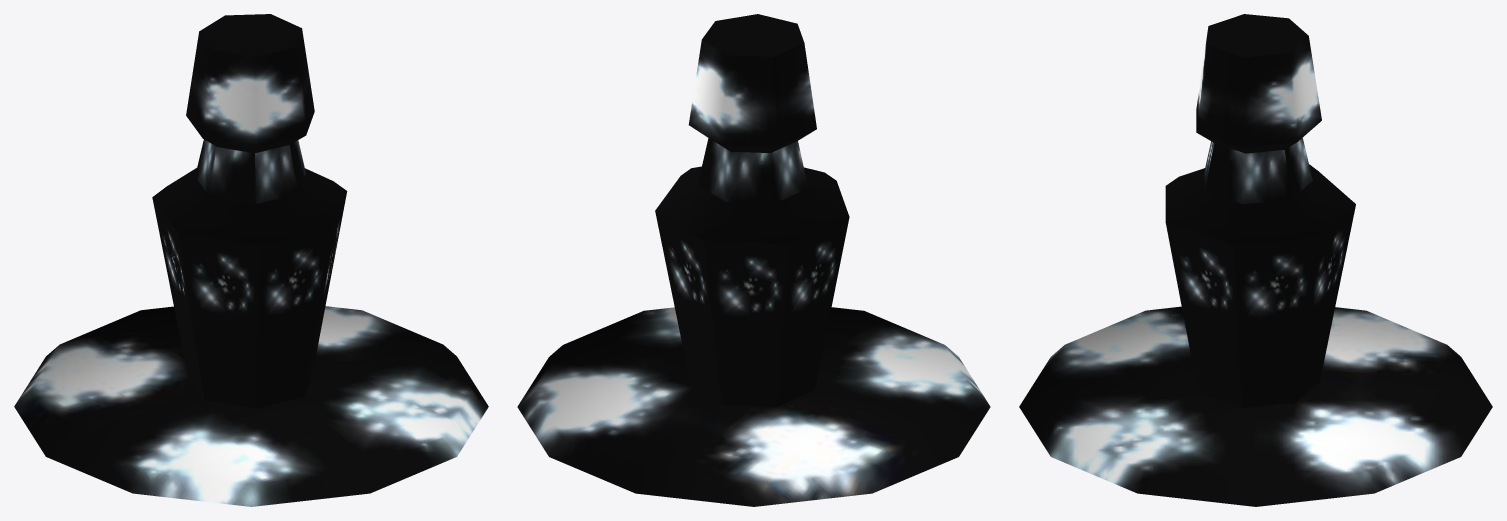
Rendered from datan_common__1_e18a3a58.obj.
3 renders of one model, left to right at view 1: azimuth 30°, elevation 25°; view 2: azimuth 150°, elevation 25°; view 3: azimuth 270°, elevation 25°, orthographic.
Parts seen in each view (by area): view 1: datan_common__1_e18a3a58_mesh00; view 2: datan_common__1_e18a3a58_mesh00; view 3: datan_common__1_e18a3a58_mesh00.
Boxes of the visible parts, x1,y1,x2,y2 form: datan_common__1_e18a3a58_mesh00: [14, 14, 488, 506]; datan_common__1_e18a3a58_mesh00: [517, 14, 990, 506]; datan_common__1_e18a3a58_mesh00: [1019, 14, 1492, 506].
Size of the model in its own units: 3.77 by 3.26 by 3.77.
Materials: 1 (1 with a texture image).
